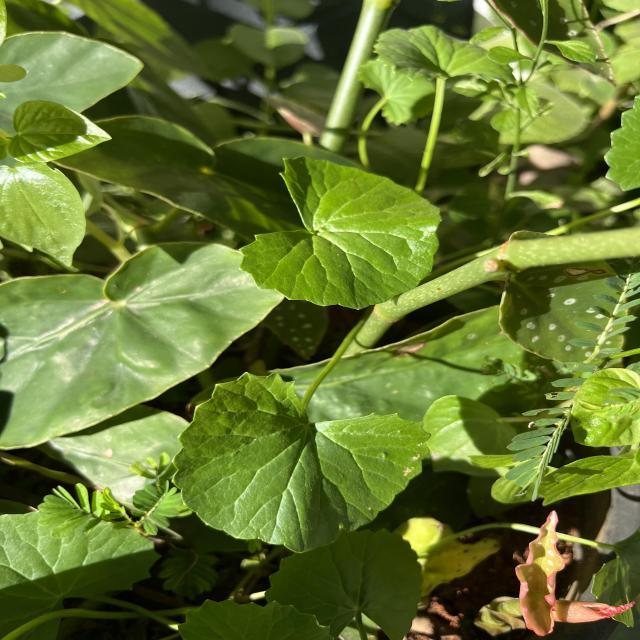Centella asiatica: (168, 368, 434, 555), (236, 153, 447, 313)
